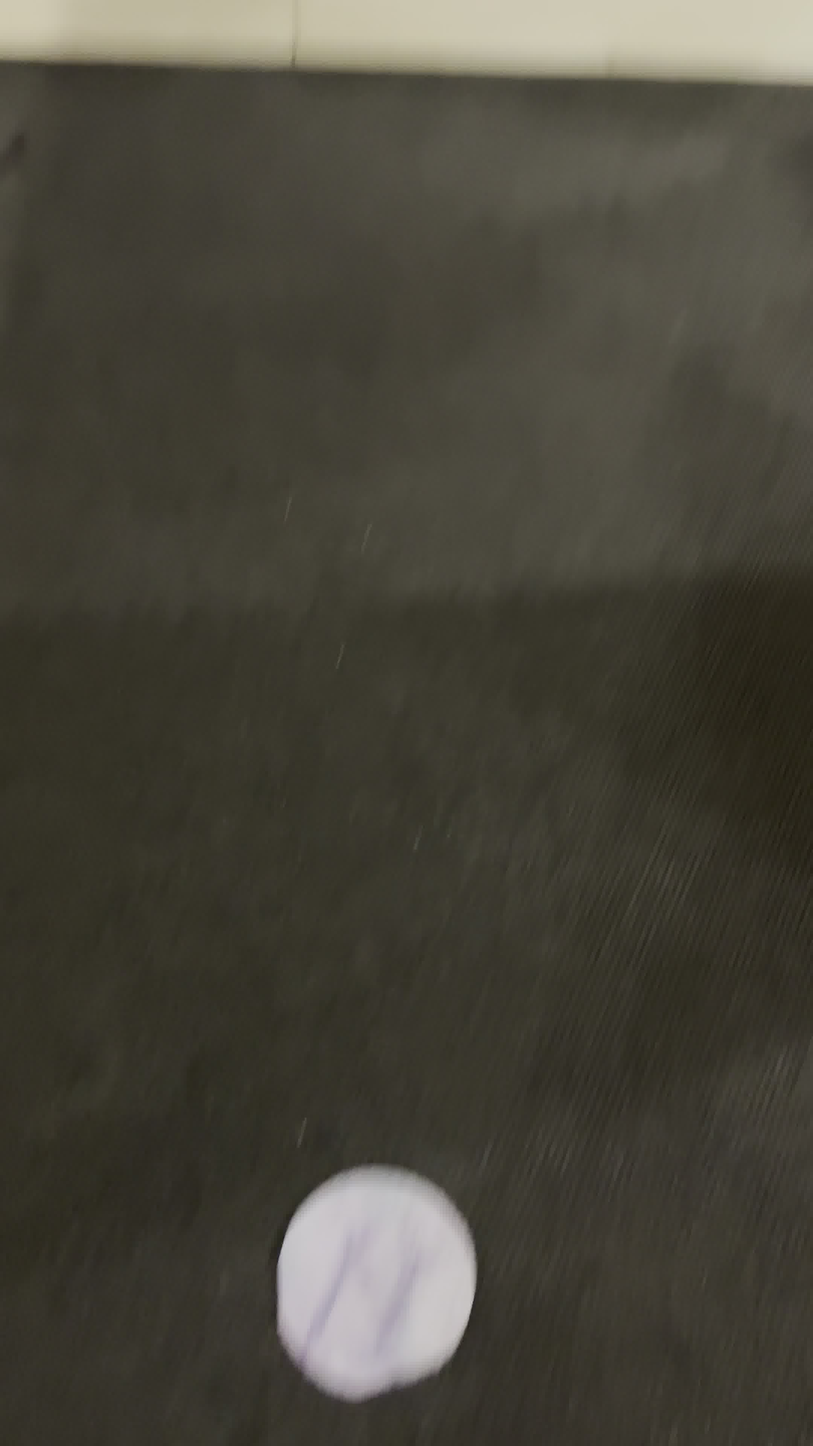Target: (271, 1157, 479, 1408)
